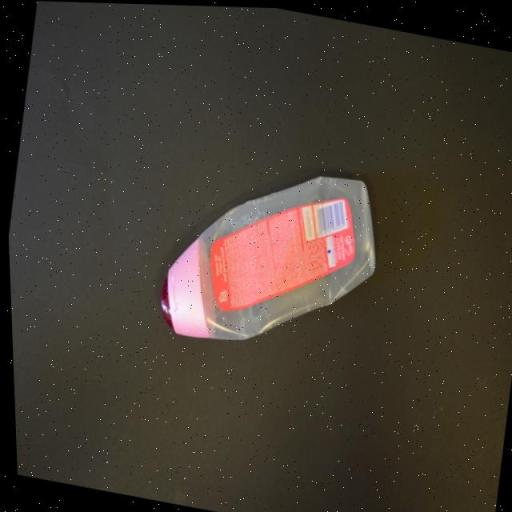plastic: (146, 142, 392, 370)
